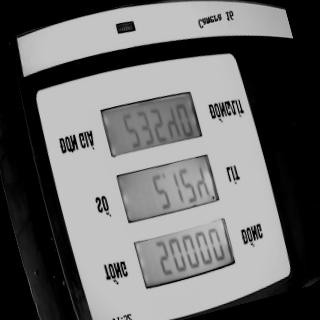screen: (94, 82, 240, 292)
